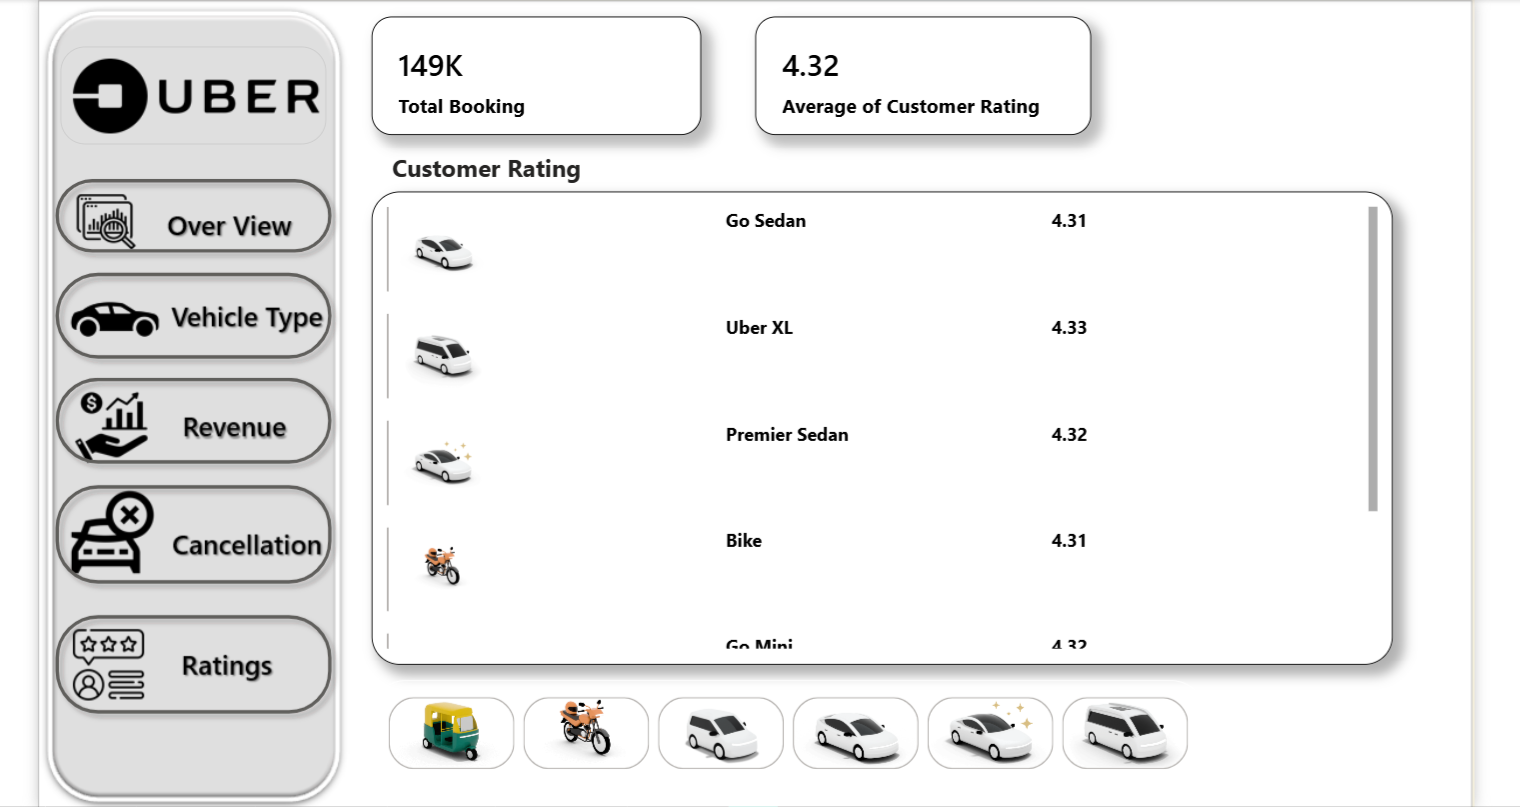

The dashboard page shown, as its layout file describes it:
{"tool":"powerbi","page":{"name":"Ratings","canvas":[1280,720],"ordinal":5},"visuals":[{"type":"actionButton","box":[6.1,150.9,263.8,83.4],"z":0},{"type":"actionButton","box":[6.1,234.4,263.8,94.5],"z":1000},{"type":"actionButton","box":[6.1,328.8,263.8,94.5],"z":2000},{"type":"actionButton","box":[6.1,424.5,263.8,105.5],"z":3000},{"type":"actionButton","box":[6.1,539.9,263.8,105.5],"z":4000},{"type":"actionButton","box":[20,42.9,237.1,87.1],"z":5000},{"type":"multiRowCard","title":"Customer Rating","fields":{"Values":["Uber_Image.Img","Uber_dataset.Vehicle Type","Avg(Uber_dataset.Customer Rating)"]},"box":[297.8,171.5,909.8,421.3],"z":6000},{"type":"advancedSlicerVisual","fields":{"Values":["Uber_Image.Vehicle Type"]},"box":[297.8,606.5,742.4,94.7],"z":7000},{"type":"textbox","box":[310.1,130.4,299.1,50.8],"z":8000},{"type":"cardVisual","fields":{"Data":["_Measures.Total Booking"]},"box":[297.8,15.1,293.7,105.7],"z":9000},{"type":"cardVisual","fields":{"Data":["Avg(Uber_dataset.Customer Rating)"]},"box":[639.5,15.1,299.1,105.7],"z":10000}]}

Visuals, with their boxes on the page's 1280x720 design canvas (x1, y1, x2, y2). These are canvas units, not pixel positions in the 1520x807 screenshot, which may show the page scaled, cropped or inside an application window:
actionButton: bbox(6, 151, 270, 234)
actionButton: bbox(6, 234, 270, 329)
actionButton: bbox(6, 329, 270, 423)
actionButton: bbox(6, 424, 270, 530)
actionButton: bbox(6, 540, 270, 645)
actionButton: bbox(20, 43, 257, 130)
"Customer Rating" multiRowCard: bbox(298, 172, 1208, 593)
advancedSlicerVisual - Uber_Image.Vehicle Type: bbox(298, 606, 1040, 701)
textbox: bbox(310, 130, 609, 181)
cardVisual - _Measures.Total Booking: bbox(298, 15, 592, 121)
cardVisual - Avg(Uber_dataset.Customer Rating): bbox(640, 15, 939, 121)
